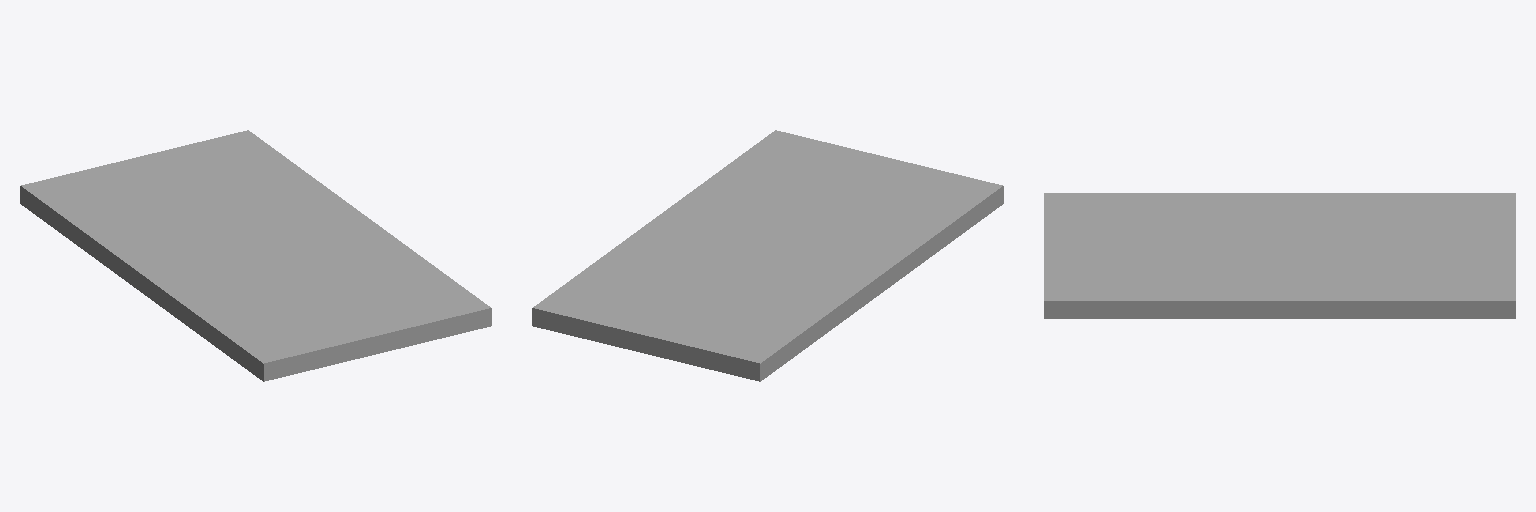
robot.urdf — box1:
<robot name="box1">
  <link name="box1_base_link">
    <visual>
      <origin rpy="0 0 3.14159" xyz="0.2 -0.52 -0.16"/>
      <geometry>
        <mesh filename="../meshes/box1.obj"  scale="0.0005 0.0005 0.0005"/>
      </geometry>
      <material name="tray_material">
        <color rgba="0.7 0.7 0.7 1"/>
      </material>
    </visual>
    <collision>
      <origin rpy="0 0 3.14159" xyz="0.2 -0.52 -0.16"/>
      <geometry>
        <mesh filename="../meshes/box1.obj" scale="0.0005 0.0005 0.0005"/>
      </geometry>
    </collision>
  </link>
</robot>

--- Render facts (derived) ---
Views: 3 orthographic renders of the robot side by side, from view 1: azimuth 30°, elevation 25°; view 2: azimuth 150°, elevation 25°; view 3: azimuth 270°, elevation 25°.
Model box1 with 1 links and 0 joints (none), rooted at box1_base_link, posed every joint at zero.
Links seen in each view (by area): view 1: box1_base_link; view 2: box1_base_link; view 3: box1_base_link.
Link boxes in pixels (x1,y1,x2,y2): box1_base_link: [20, 130, 491, 381]; box1_base_link: [532, 130, 1003, 381]; box1_base_link: [1044, 193, 1515, 318].
Size in the robot's own frame: 0.325 by 0.6 by 0.025 metres.
Meshes: 1 distinct files referenced, 1 mesh visuals loaded (1 OBJ).